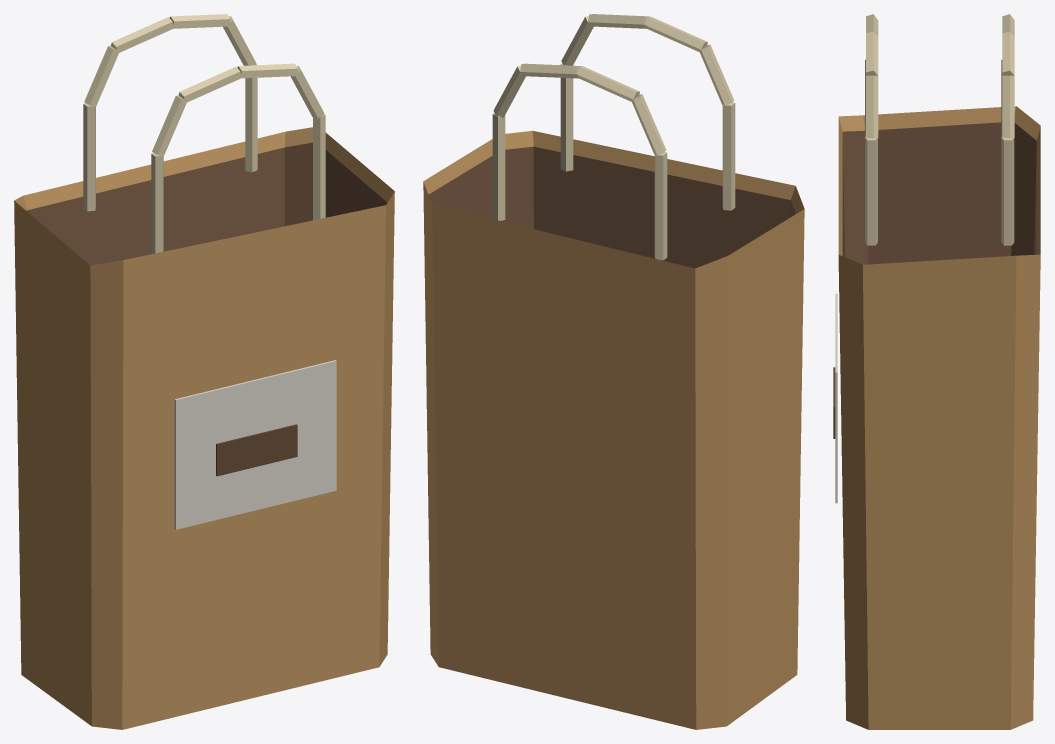
Rendered from b16_paper_takeaway_bag.glb.
The picture shows the model from 3 angles, left to right: view 1: azimuth 30°, elevation 25°; view 2: azimuth 150°, elevation 25°; view 3: azimuth 270°, elevation 25°; orthographic projection.
Visible parts, largest first — view 1: b16_paper_takeaway_bag; view 2: b16_paper_takeaway_bag; view 3: b16_paper_takeaway_bag.
Boxes of the visible parts, x1=… form: b16_paper_takeaway_bag: x1=14, y1=14, x2=394, y2=729; b16_paper_takeaway_bag: x1=423, y1=14, x2=804, y2=729; b16_paper_takeaway_bag: x1=833, y1=14, x2=1040, y2=729.
Bounding box in the file's own units: 0.14 × 0.2735 × 0.0821.
